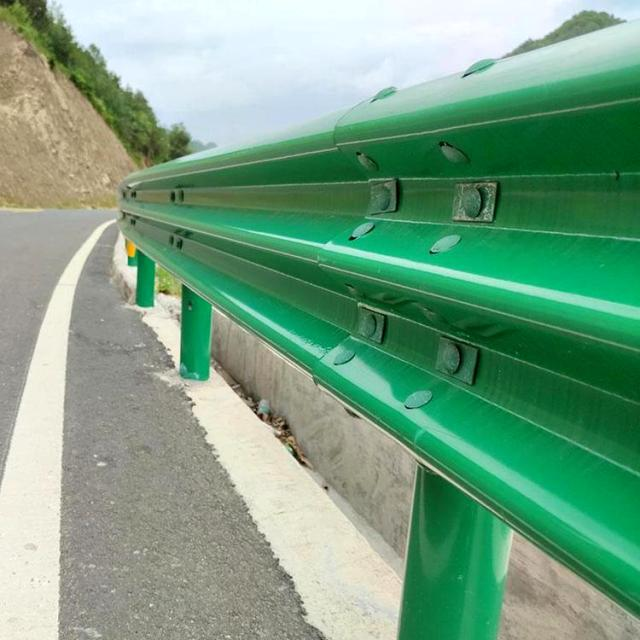Guard rail: (120, 21, 640, 639)
